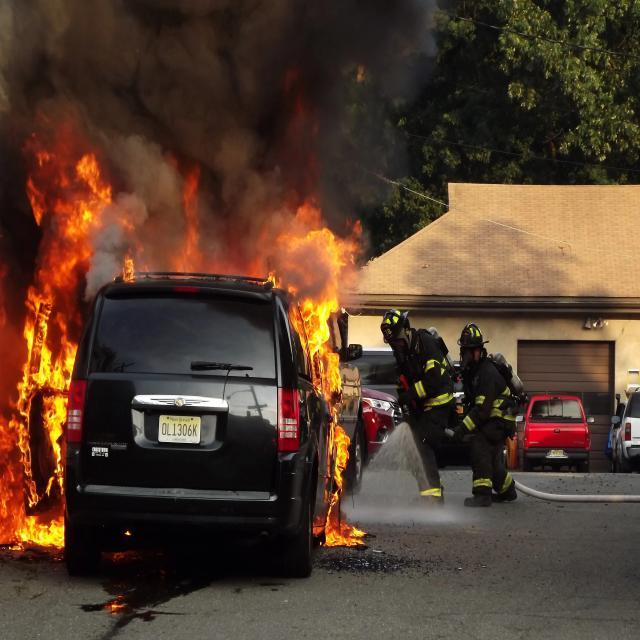Fire: (0, 140, 135, 548), (262, 130, 366, 403), (320, 422, 370, 548), (172, 168, 208, 270)
Smoke: (0, 23, 432, 301)
